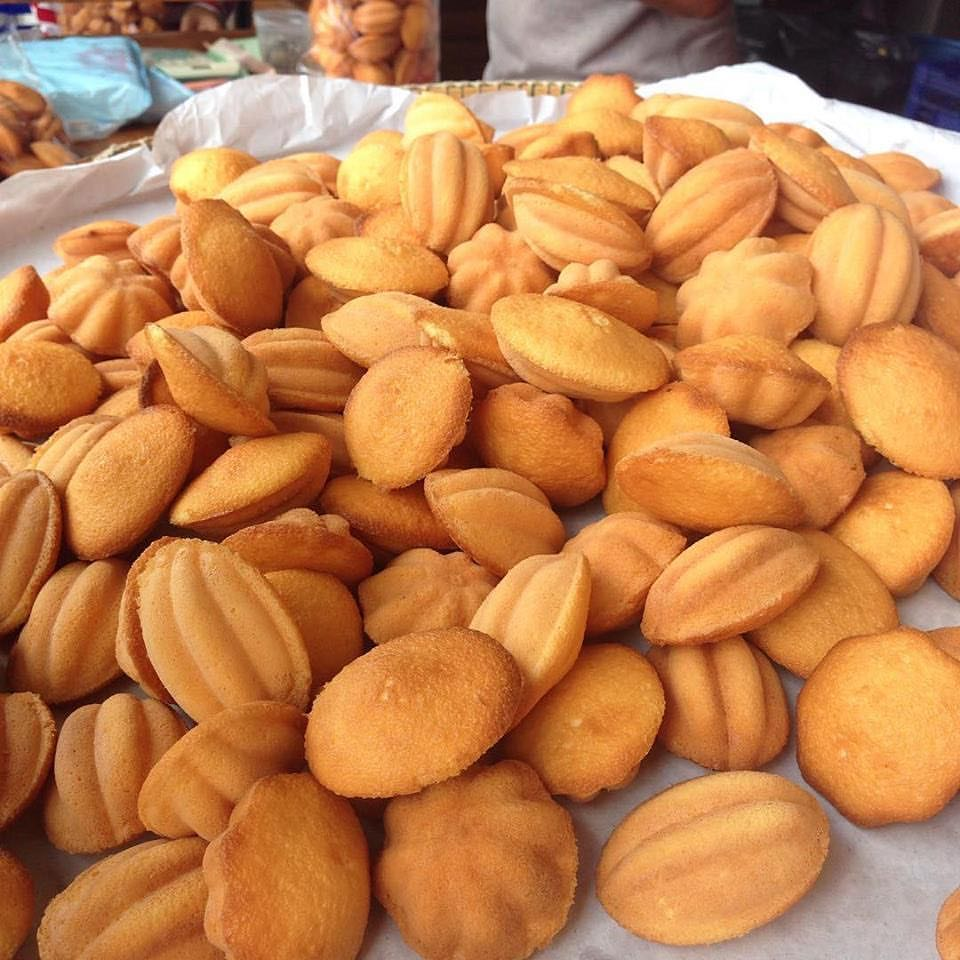kanomkai: (590, 751, 849, 940), (113, 529, 326, 741), (302, 616, 520, 810), (183, 756, 366, 960), (632, 507, 829, 656), (483, 276, 677, 421), (334, 334, 489, 513), (139, 299, 313, 451), (804, 186, 936, 356), (163, 186, 296, 347), (829, 311, 960, 473), (494, 163, 663, 281)
